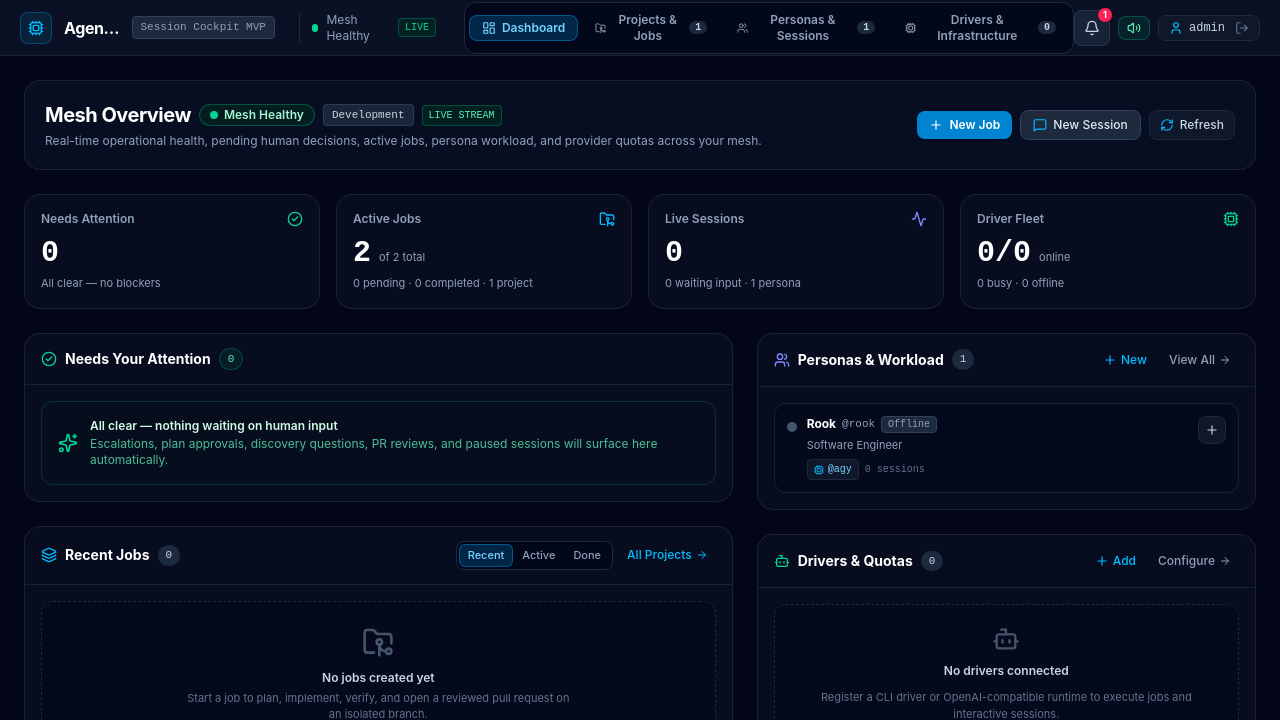
Attention wiring in App › navigates the cockpit to the waiting job when a row is clicked
expect the text with test id "attention-badge" is shown: met, box [1097,6,1113,22]
Click the button with test id "attention-bell-button": (1092, 28) [1074,10,1110,46]
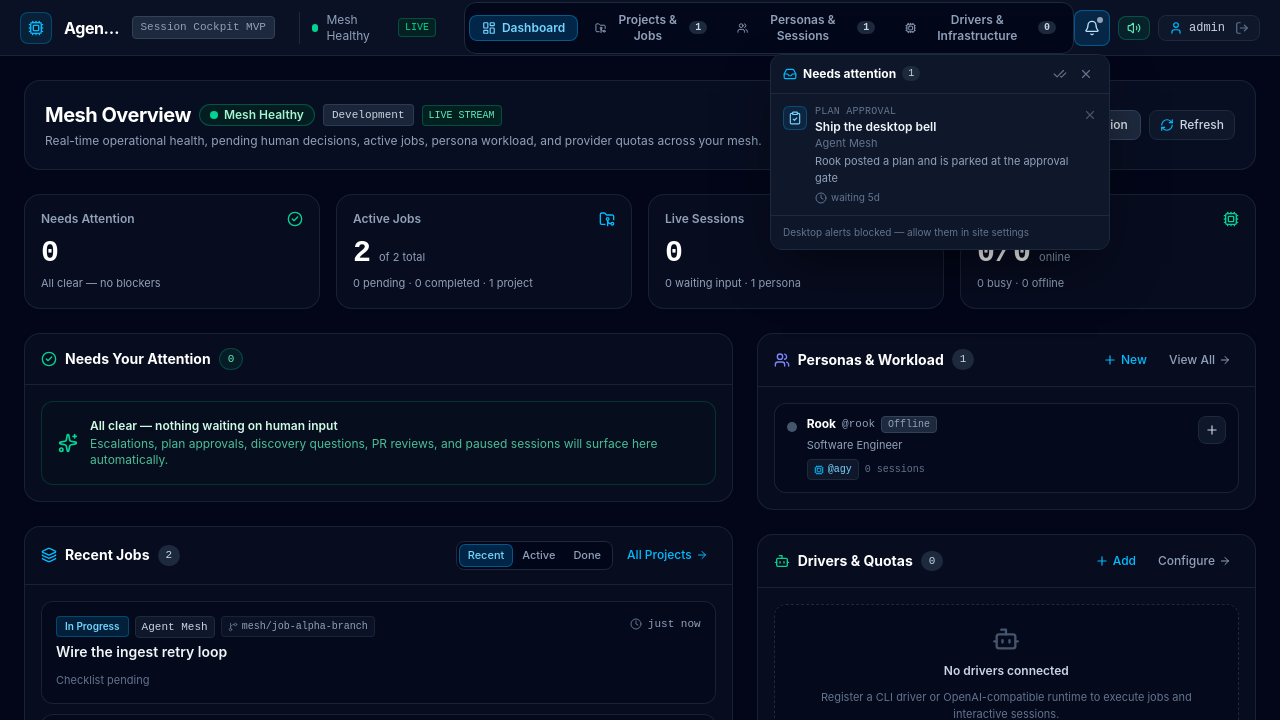
Click the button with test id "attention-open-job-beta:planApproval": (943, 154) [815,104,1071,205]
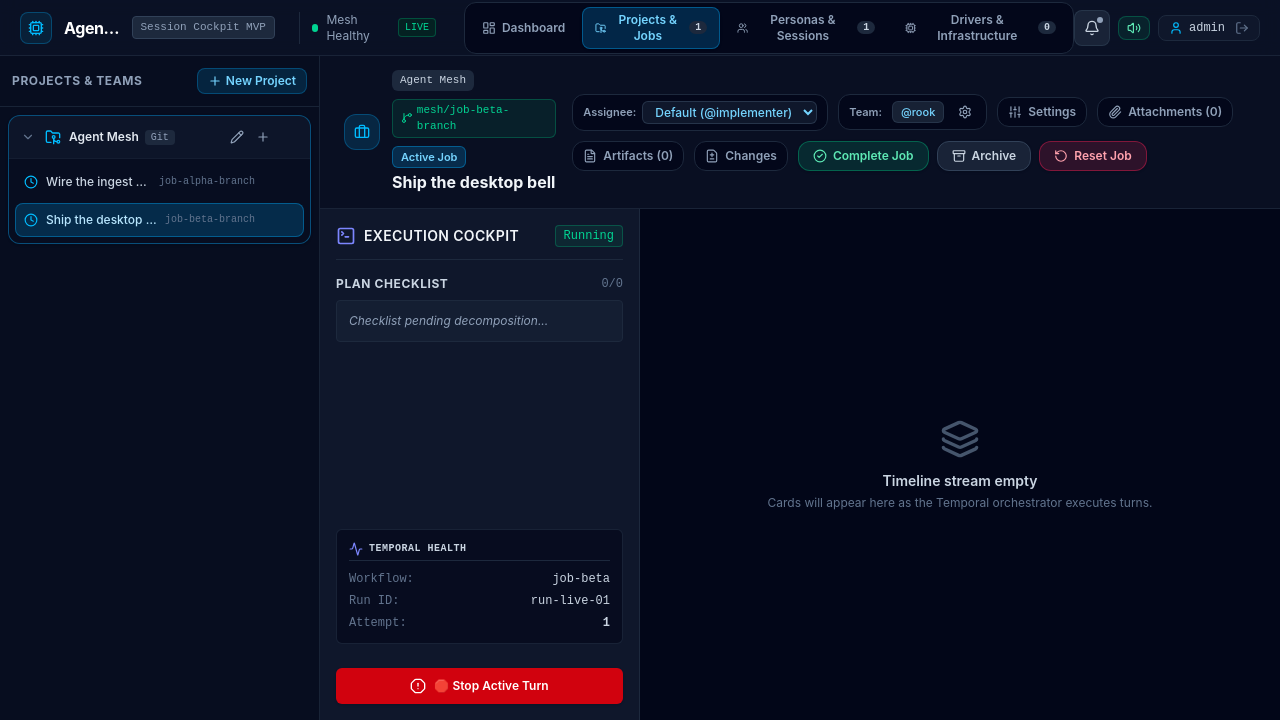
expect the dialog with test id "attention-panel" is gone: met
expect the text "mesh/job-beta-branch" is shown: met, box [392,98,556,138]
expect the text "job-beta" is shown: met, box [552,571,610,587]
